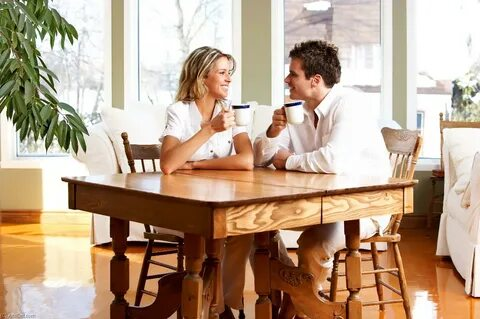awake: (253, 38, 391, 179), (159, 45, 254, 172)
